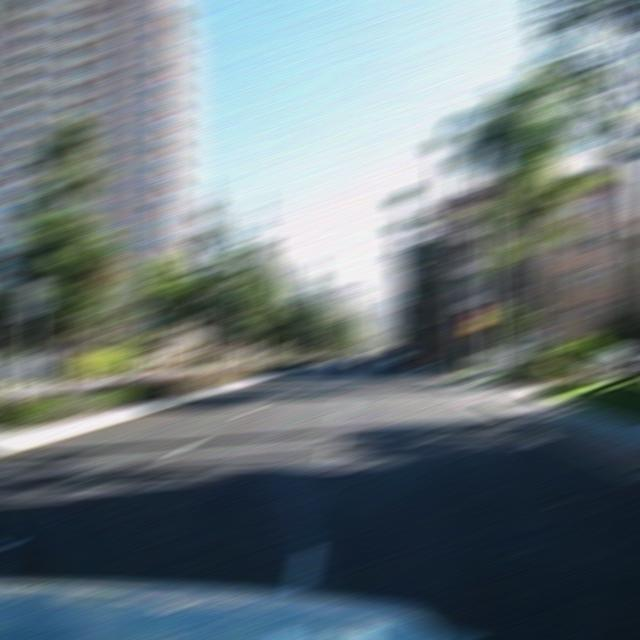speedLimit35: (12, 282, 48, 317)
